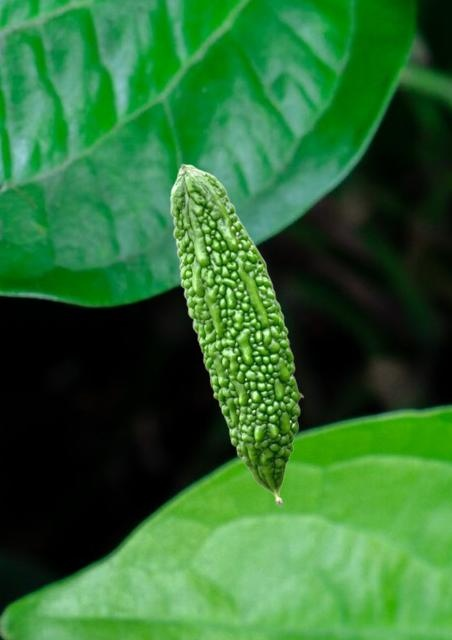ampalaya: (167, 161, 305, 507)
